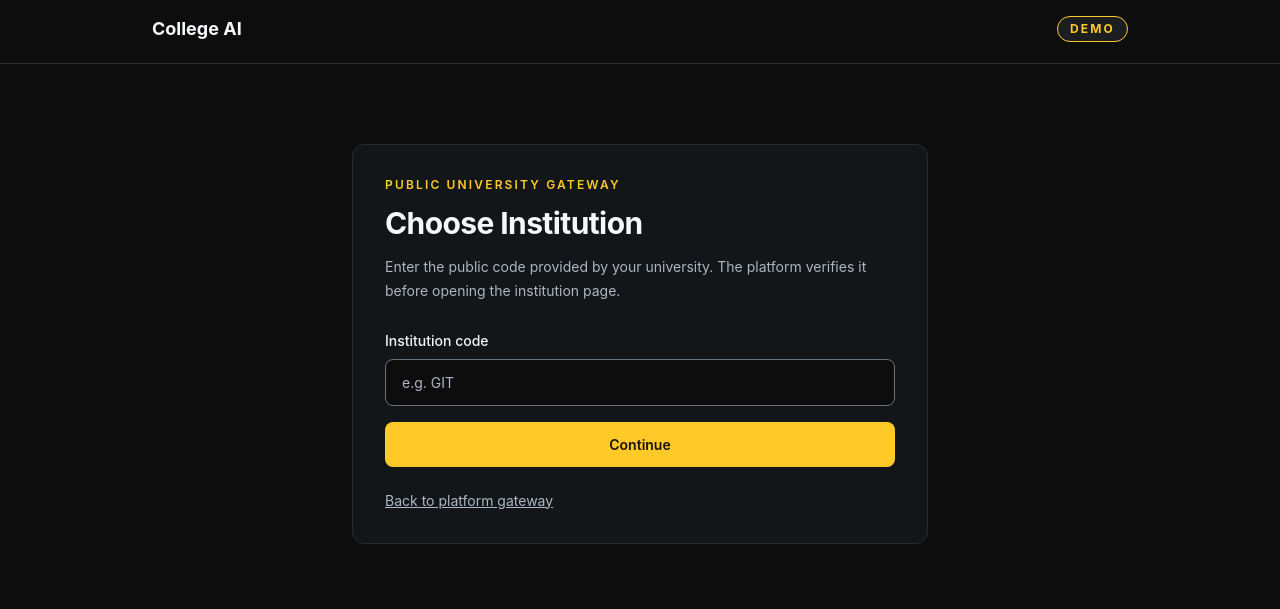
Test: institution presentation gateway › verifies a selected institution and opens its code-based gateway
In the field labelled "Institution code": (640, 382) [385,358,895,406], type "git"
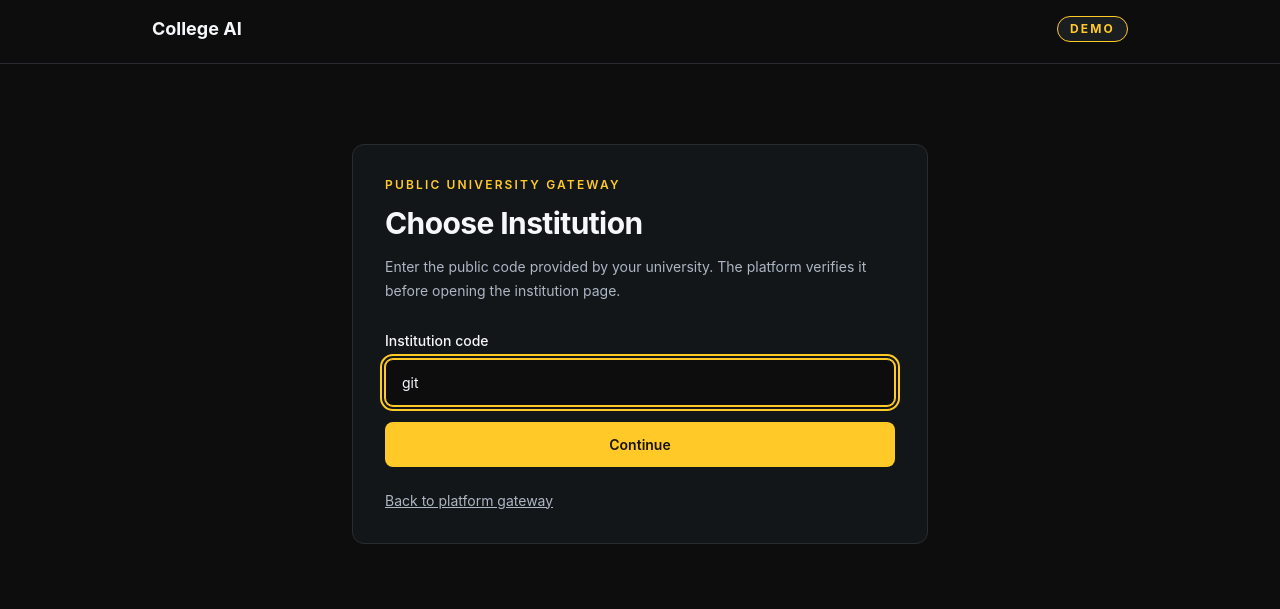
Click the button "Continue": (640, 444) [385,422,895,466]
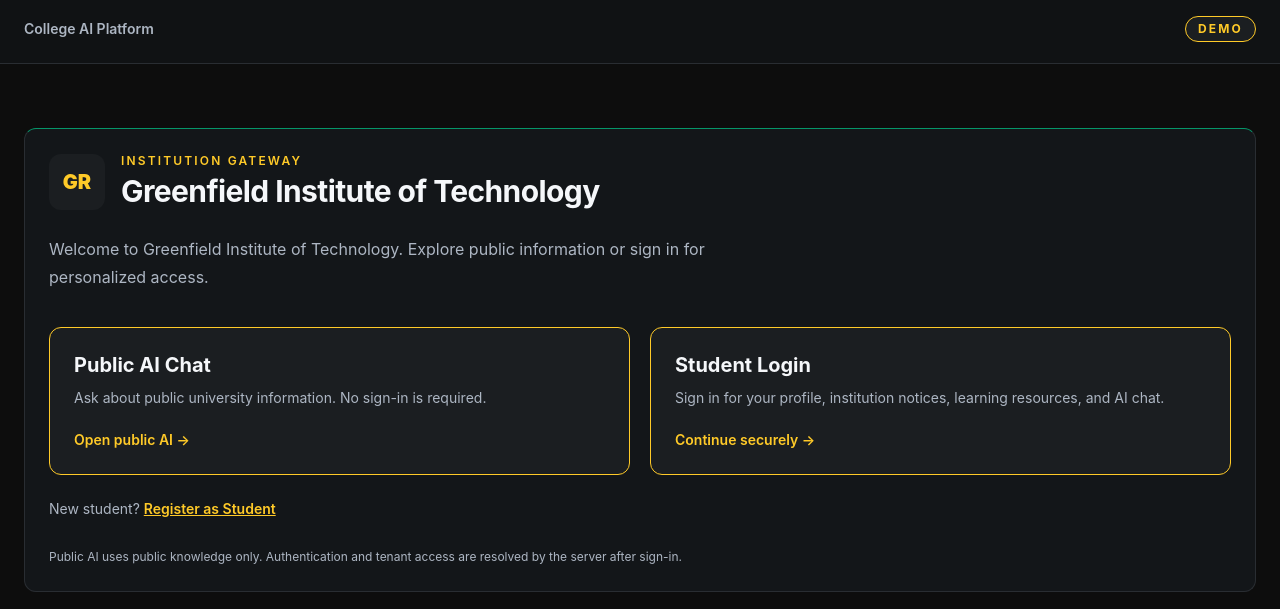
Now the heading "Greenfield Institute of Technology" is shown, box [121,173,600,210]
